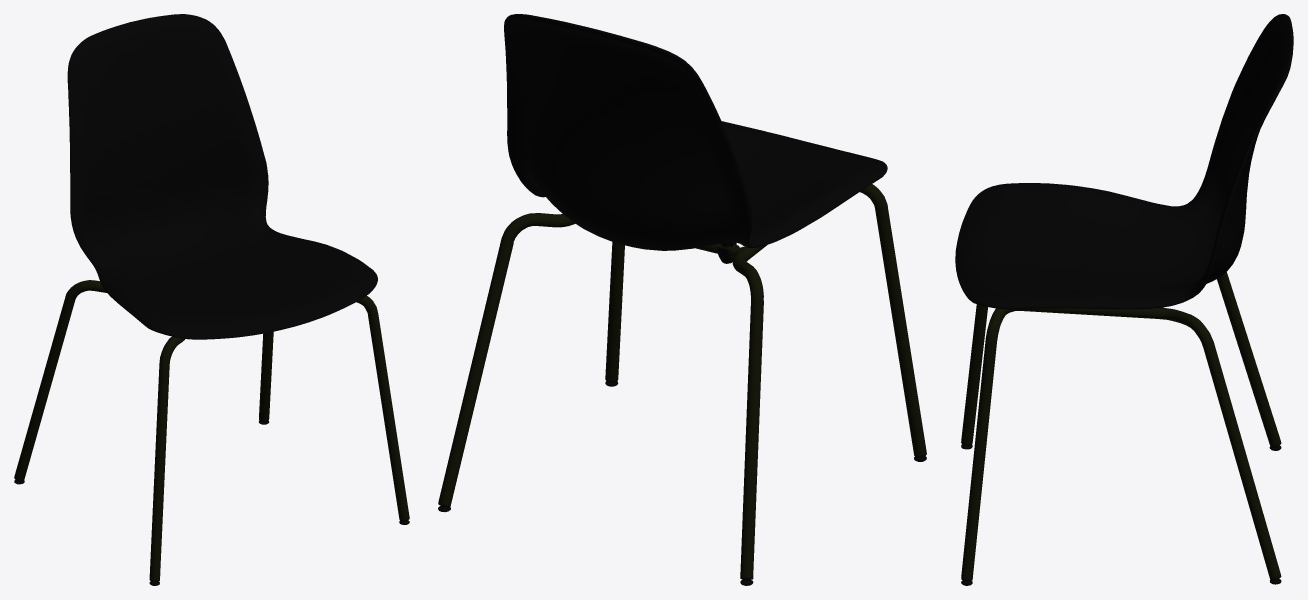
File: LID_S_49505560.glb
The picture shows the model from 3 angles, left to right: view 1: azimuth 30°, elevation 25°; view 2: azimuth 150°, elevation 25°; view 3: azimuth 270°, elevation 25°; orthographic projection. The views are drawn at different scales.
Visible parts, largest first — view 1: c5bd543781e9444a982cc0526790402d; view 2: c5bd543781e9444a982cc0526790402d; view 3: c5bd543781e9444a982cc0526790402d.
Boxes of the visible parts, bbox=[...] form: c5bd543781e9444a982cc0526790402d: bbox=[14, 14, 409, 585]; c5bd543781e9444a982cc0526790402d: bbox=[438, 14, 926, 585]; c5bd543781e9444a982cc0526790402d: bbox=[955, 14, 1293, 585].
Bounding box in the file's own units: 0.5164 × 0.8124 × 0.5224.
Materials: 2 (2 with a texture image).
